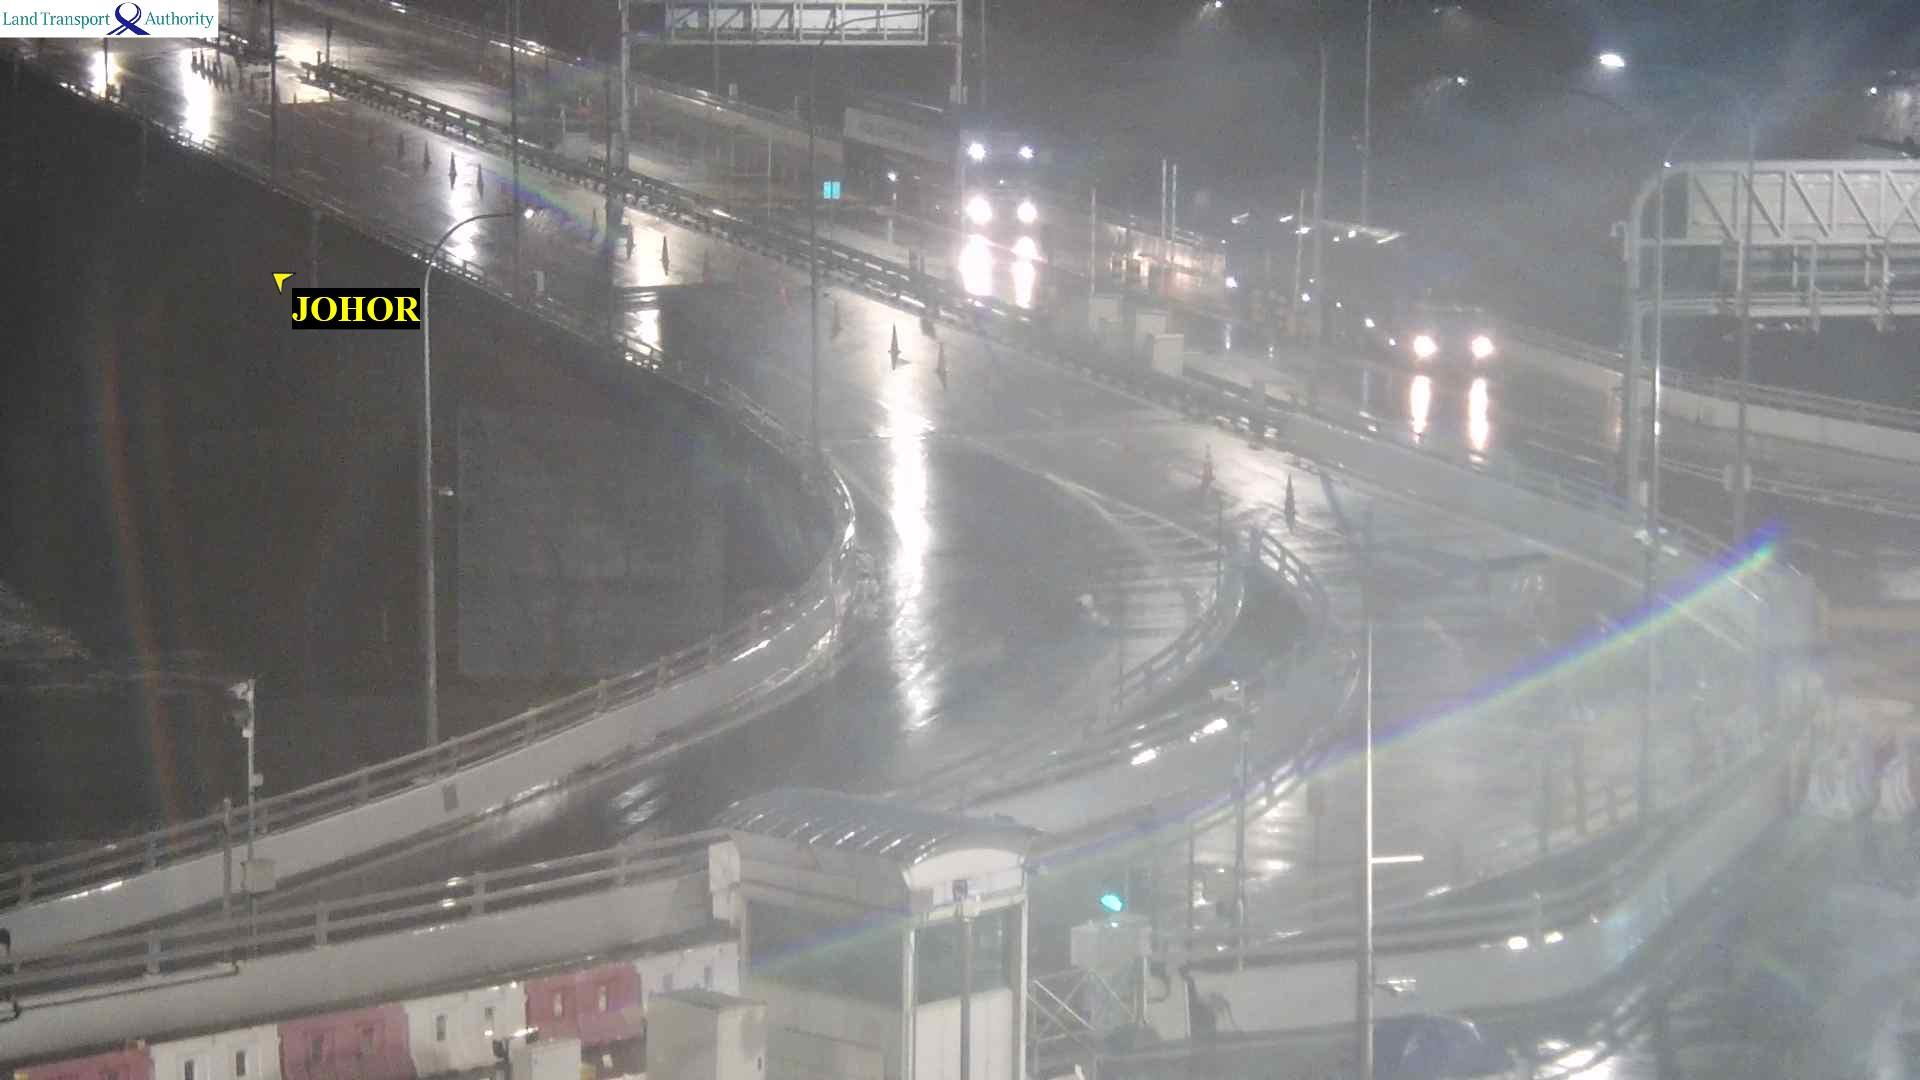vehicle-secondlink-singapore: (844, 91, 1043, 252), (1358, 272, 1505, 389)
